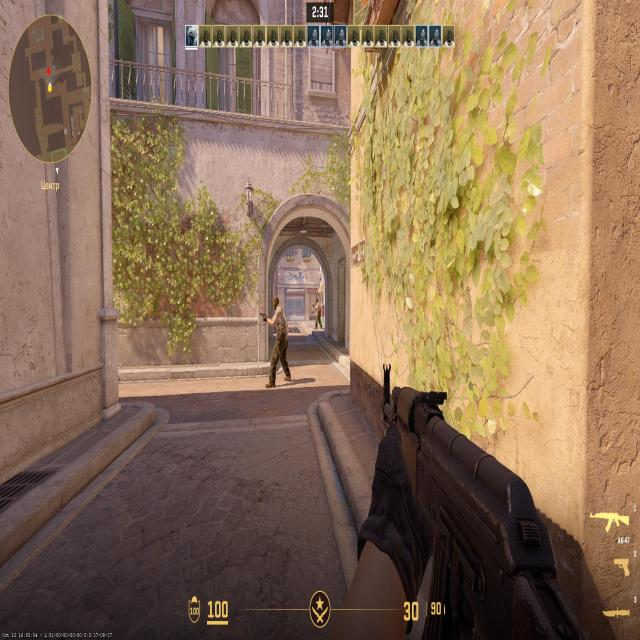T: (271, 293, 286, 390), (316, 298, 321, 326)
T_heat: (270, 298, 280, 310), (316, 300, 318, 306)
